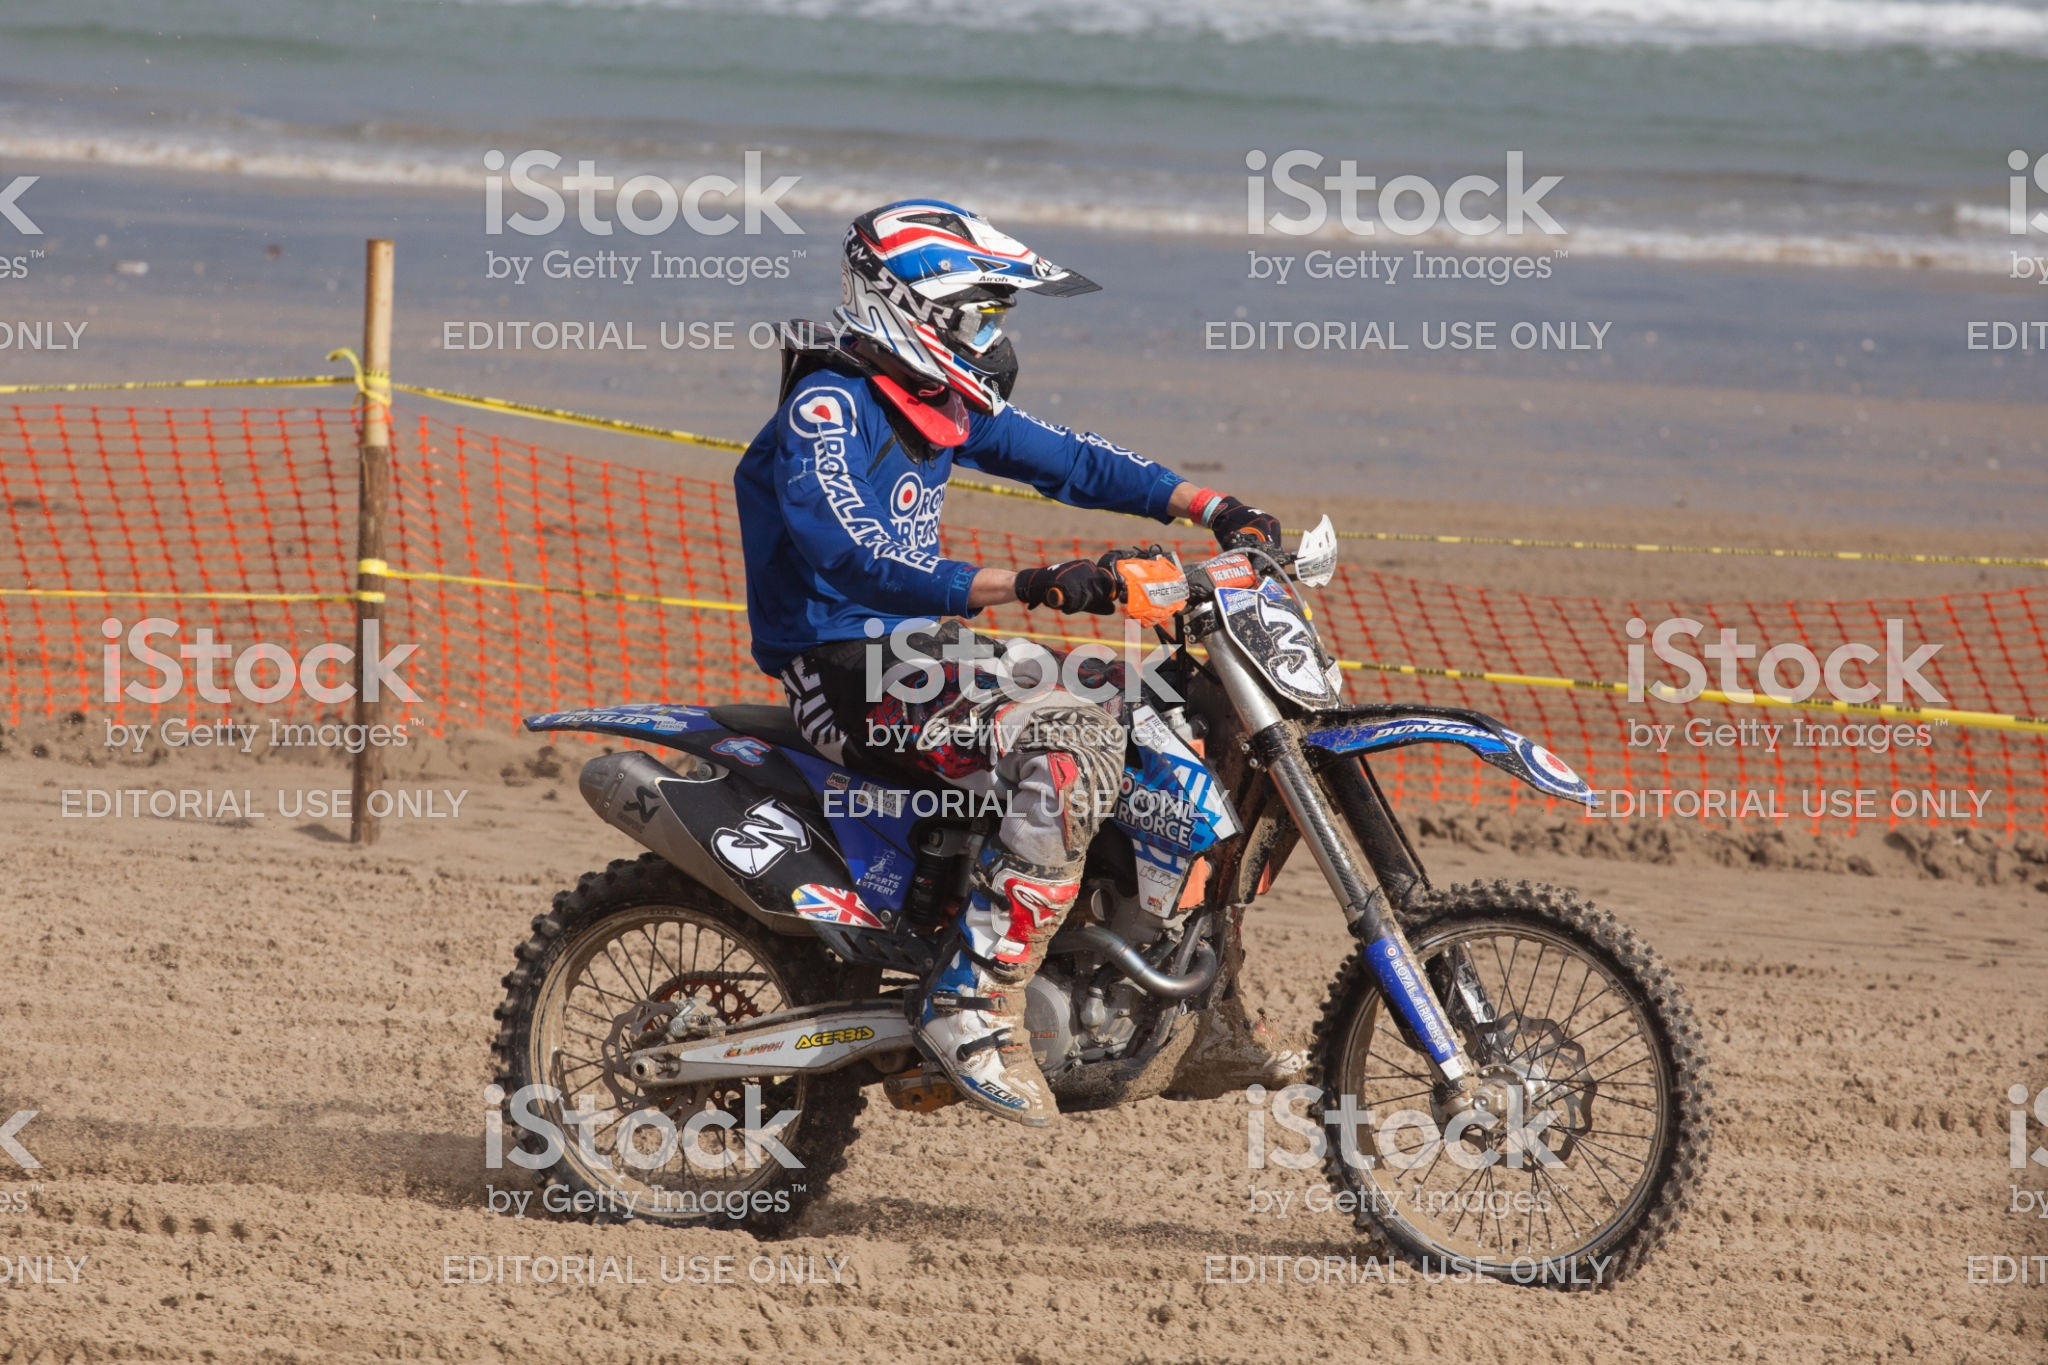helmet: (844, 190, 1093, 463)
